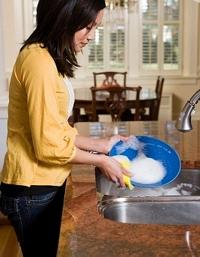person: (1, 1, 135, 257)
